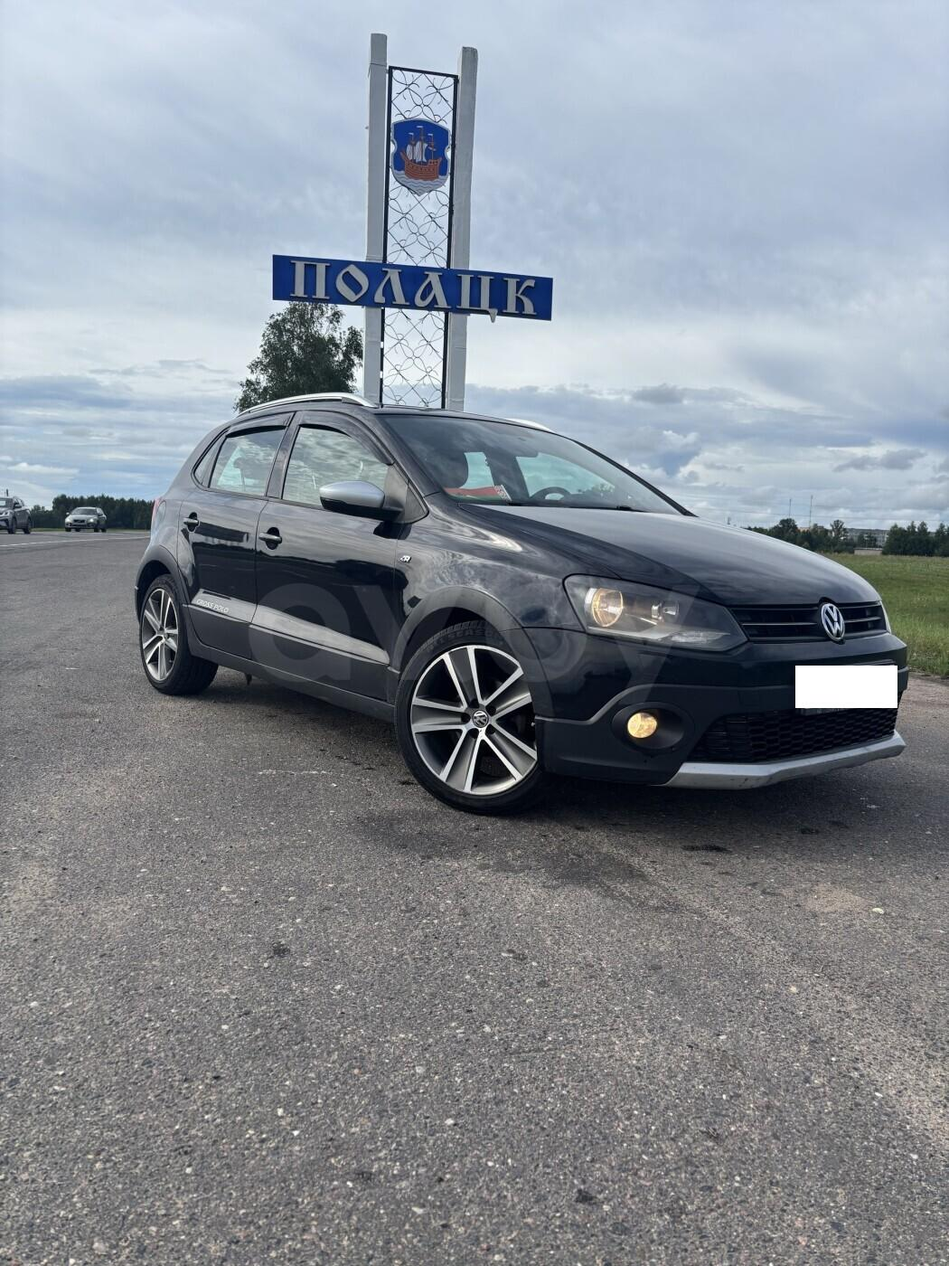Polo_2009-2015: (119, 399, 931, 845)
